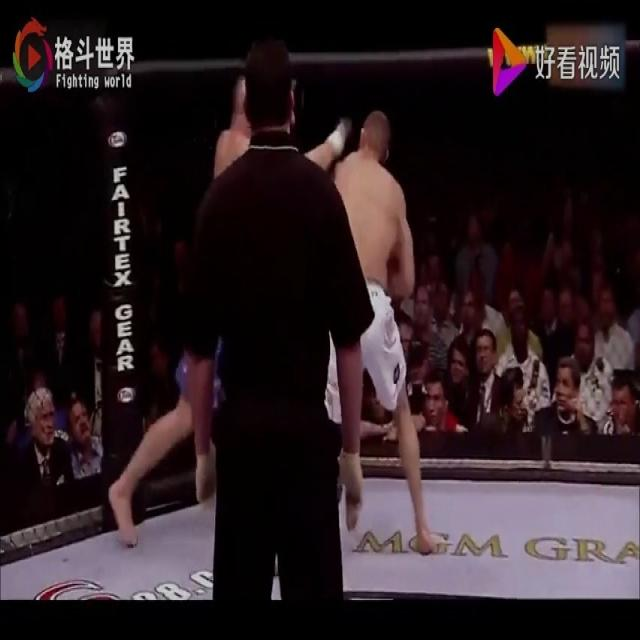fight: (95, 76, 445, 600)
non-fight: (184, 32, 369, 600)
